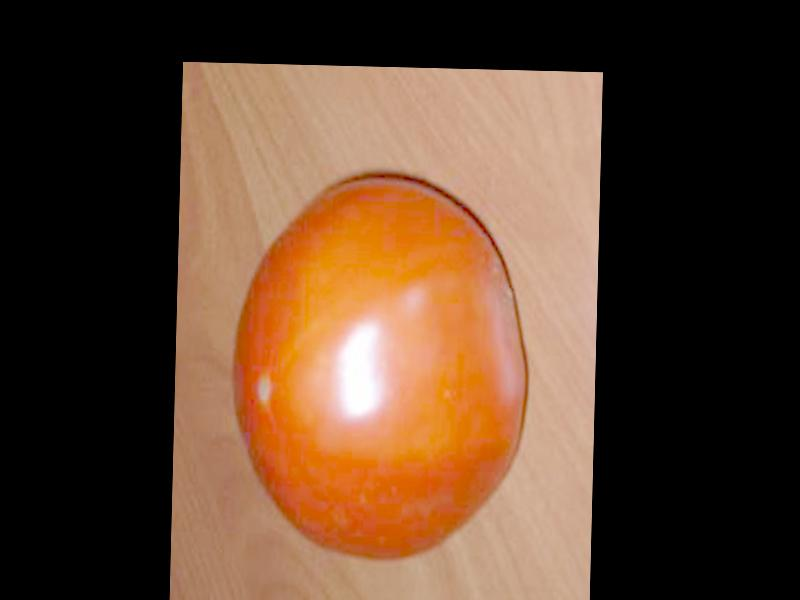Tomato: (226, 168, 530, 567)
